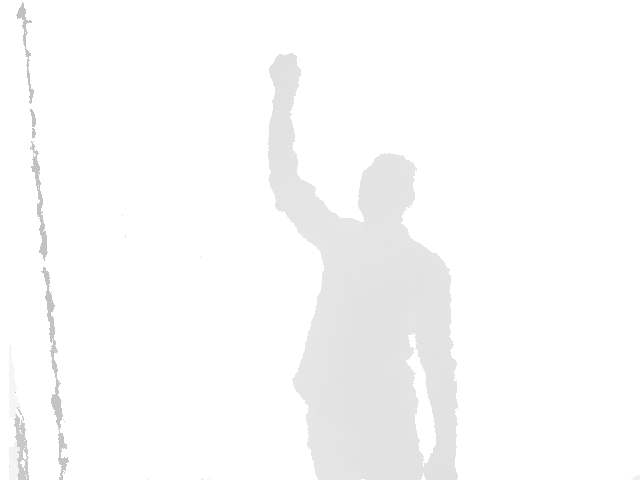hand: (269, 53, 302, 95)
hand_down: (423, 444, 459, 480)
head: (357, 154, 418, 225)
person: (266, 53, 459, 480)
